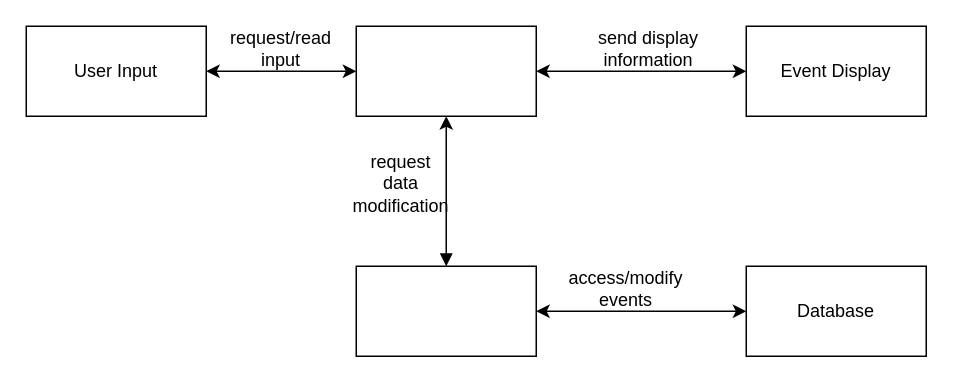
Some shapes in this 953 by 383 pixel diagram are drawn without their labels. The centre of each missing label's shape, as x and y in pixels:
"Event Scheduler/Manager" belongs at pixel 445 310.
"User Input/Request Handler" belongs at pixel 445 70.
